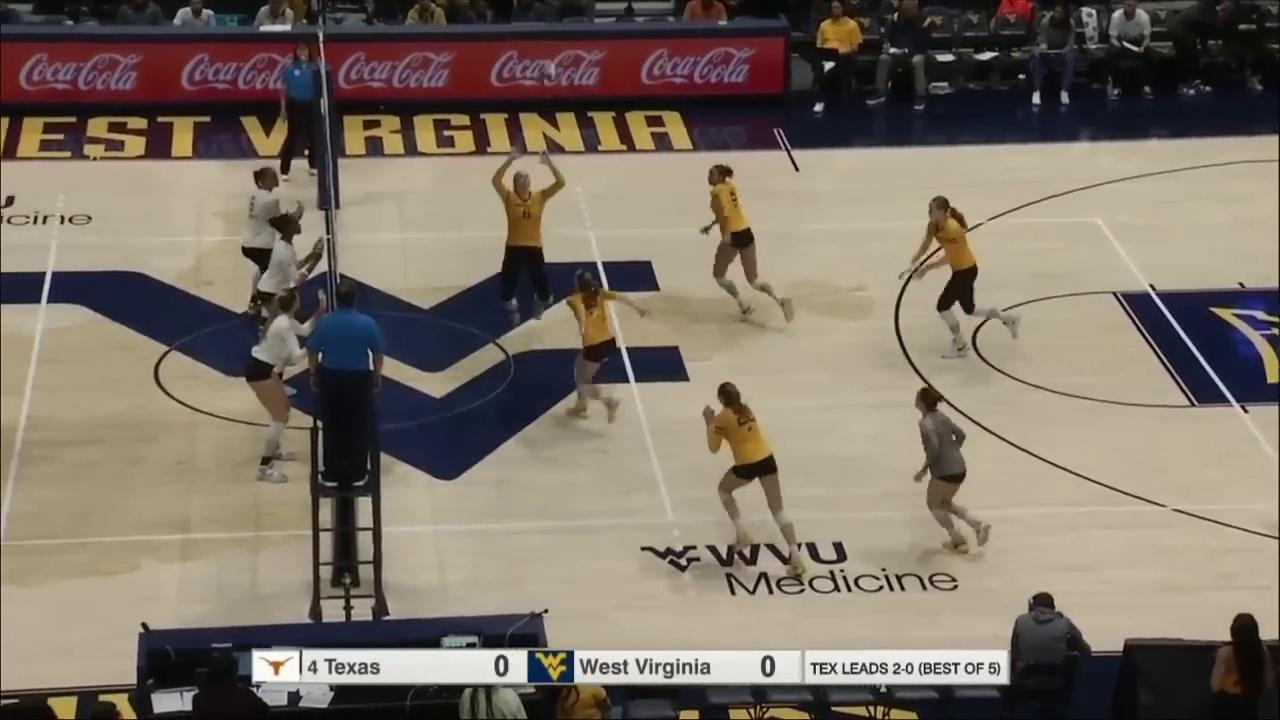player: (895, 195, 1022, 358), (704, 382, 805, 574), (701, 164, 801, 325), (245, 291, 325, 482), (910, 386, 992, 553), (493, 146, 566, 325), (567, 269, 649, 423), (261, 210, 324, 397), (245, 165, 287, 333)
refree: (310, 281, 384, 486), (277, 45, 321, 178)
